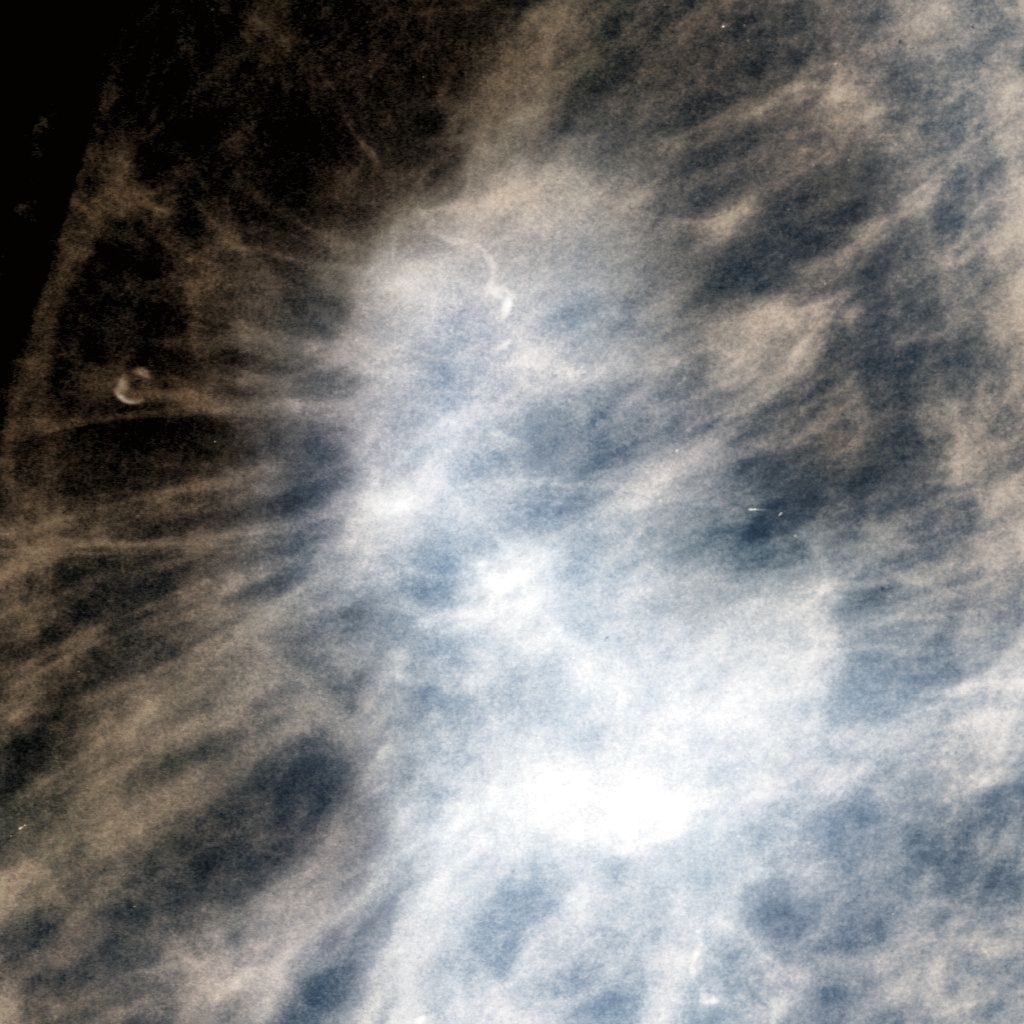tumor: (65, 100, 959, 924)
